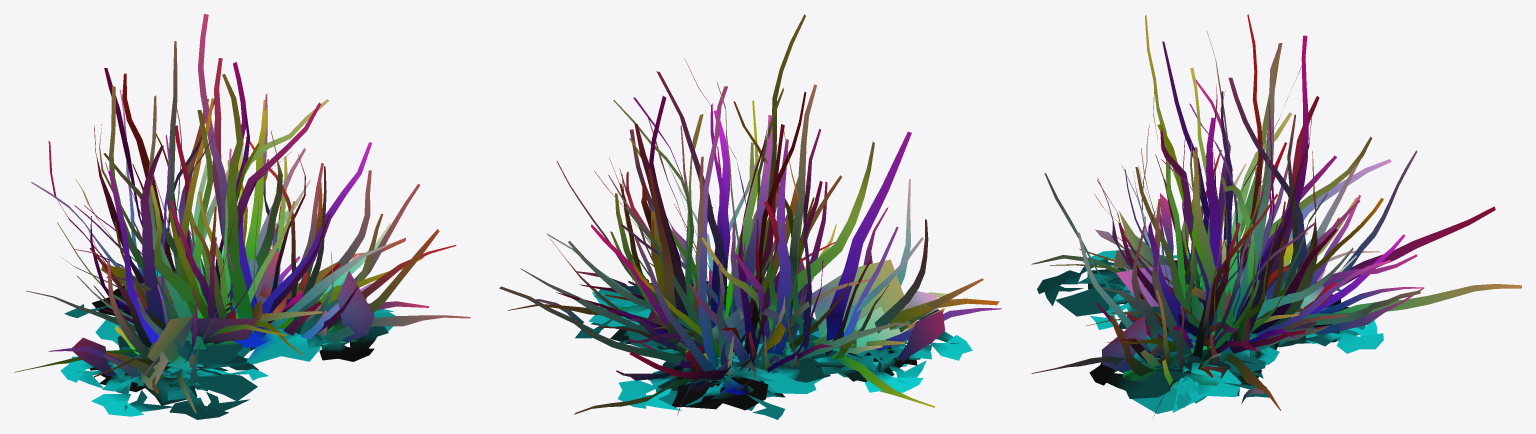
Rendered from Wild_Grass_vczndjqja_Mid_vczndjqja_VarG_LOD0.fbx.
3 views of the same model, side by side, from view 1: azimuth 30°, elevation 25°; view 2: azimuth 150°, elevation 25°; view 3: azimuth 270°, elevation 25° (orthographic). The views are drawn at different scales.
Visible parts, largest first — view 1: _5iab_VarG_LOD1; view 2: _5iab_VarG_LOD1; view 3: _5iab_VarG_LOD1.
Part boxes in pixels (x1=…): _5iab_VarG_LOD1: x1=14, y1=14, x2=470, y2=419; _5iab_VarG_LOD1: x1=499, y1=14, x2=1001, y2=419; _5iab_VarG_LOD1: x1=1031, y1=14, x2=1521, y2=417.
Bounding box in the file's own units: 118 × 85.87 × 123.
